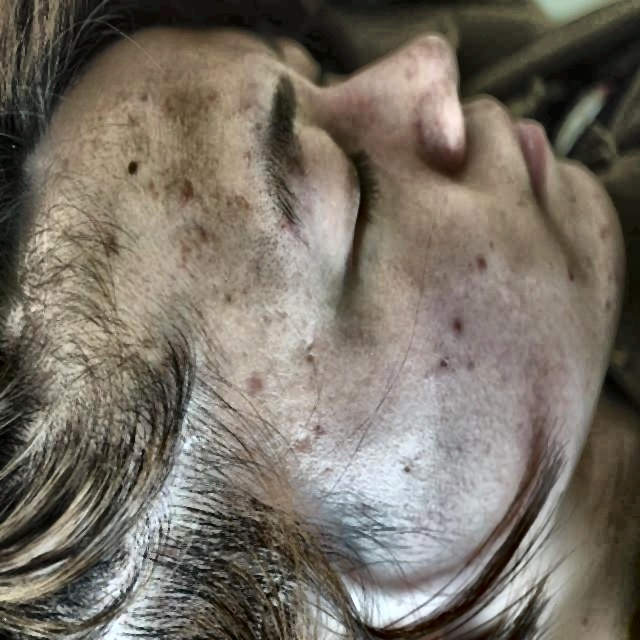comedone: (246, 356, 279, 413), (172, 170, 199, 207), (444, 316, 470, 350)
